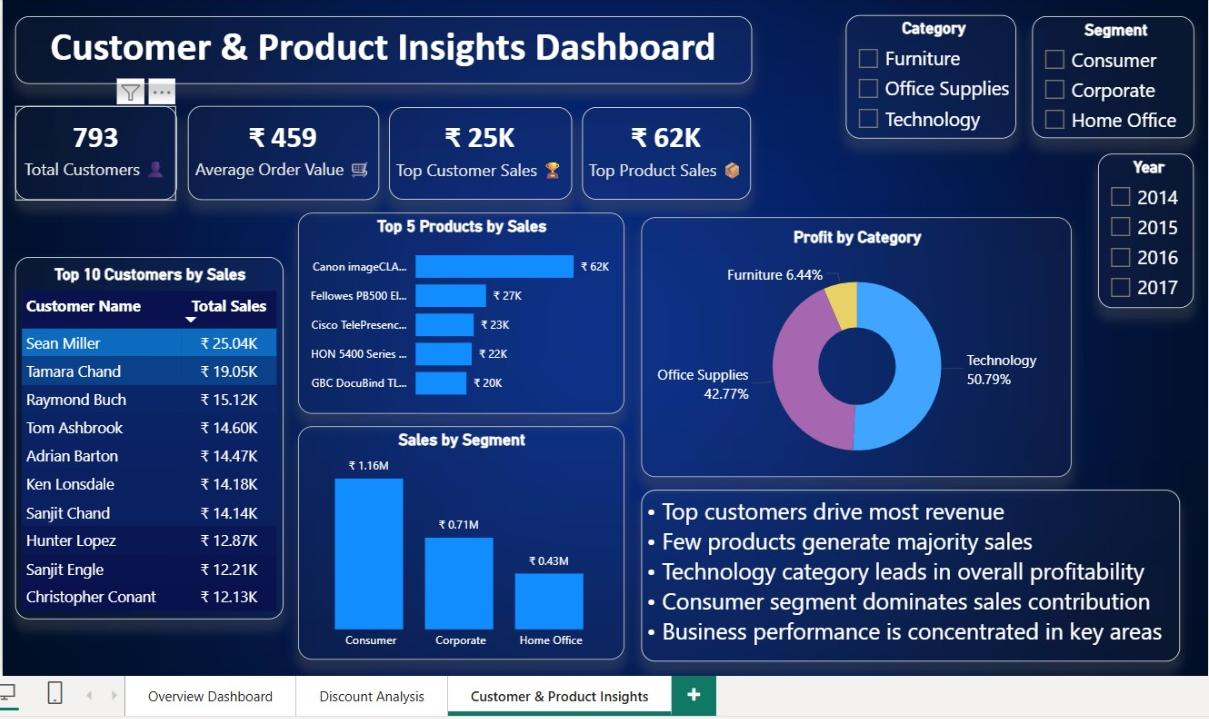

What the dashboard file says about the page in this screenshot:
{"tool":"powerbi","page":{"name":"Customer & Product Insights","canvas":[1280,720],"ordinal":2},"visuals":[{"type":"card","fields":{"Values":["Customer Table.Total Customers"]},"box":[13.4,114.9,171.6,100],"z":0},{"type":"card","fields":{"Values":["Customer Table.Top Customer Sales"]},"box":[410.4,116.4,194,98.5],"z":1000},{"type":"card","fields":{"Values":["Customer Table.Top Product Sales"]},"box":[614.9,116.4,179.1,98.5],"z":2000},{"type":"card","fields":{"Values":["Customer Table.AOV"]},"box":[197,114.9,203,100],"z":3000},{"type":"textbox","box":[13.4,19.4,782.1,71.6],"z":4000},{"type":"tableEx","title":"Top 10 Customers by Sales","fields":{"Values":["Customer Table.Customer Name","Customer Table.Total Sales"]},"box":[13.4,274.6,285.1,385.1],"z":5000},{"type":"slicer","title":"Year ","fields":{"Values":["Sample - Superstore.Year"]},"box":[1162.7,165.7,101.5,164.2],"z":6000},{"type":"slicer","title":"Segment","fields":{"Values":["Sample - Superstore.Segment"]},"box":[1092.5,19.4,171.6,129.9],"z":7000},{"type":"slicer","title":"Category","fields":{"Values":["Product Table.Category"]},"box":[895.5,17.9,180.6,131.3],"z":8000},{"type":"clusteredBarChart","title":"Top 5 Products by Sales","fields":{"Category":["Product Table.Product Name"],"Y":["Customer Table.Total Sales"]},"box":[313.4,228.4,346.3,213.4],"z":9000},{"type":"donutChart","title":"Profit by Category","fields":{"Category":["Product Table.Category"],"Y":["Customer Table.Total Profit"]},"box":[677.6,232.8,456.7,276.1],"z":10000},{"type":"clusteredColumnChart","title":"Sales by Segment","fields":{"Category":["Sample - Superstore.Segment"],"Y":["Customer Table.Total Sales"]},"box":[313.4,455.2,346.3,247.8],"z":11000},{"type":"textbox","box":[677.6,522.4,571.6,182.1],"z":12000}]}

Visuals, with their boxes on the page's 1280x720 design canvas (x1, y1, x2, y2). These are canvas units, not pixel positions in the 1209x719 screenshot, which may show the page scaled, cropped or inside an application window:
card - Customer Table.Total Customers: locate(13, 115, 185, 215)
card - Customer Table.Top Customer Sales: locate(410, 116, 604, 215)
card - Customer Table.Top Product Sales: locate(615, 116, 794, 215)
card - Customer Table.AOV: locate(197, 115, 400, 215)
textbox: locate(13, 19, 796, 91)
"Top 10 Customers by Sales" tableEx: locate(13, 275, 298, 660)
"Year " slicer: locate(1163, 166, 1264, 330)
"Segment" slicer: locate(1092, 19, 1264, 149)
"Category" slicer: locate(896, 18, 1076, 149)
"Top 5 Products by Sales" clusteredBarChart: locate(313, 228, 660, 442)
"Profit by Category" donutChart: locate(678, 233, 1134, 509)
"Sales by Segment" clusteredColumnChart: locate(313, 455, 660, 703)
textbox: locate(678, 522, 1249, 704)
